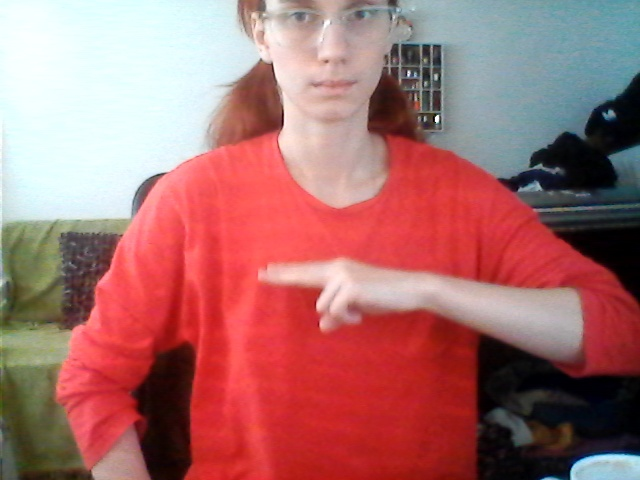frajer: (251, 248, 430, 347)
